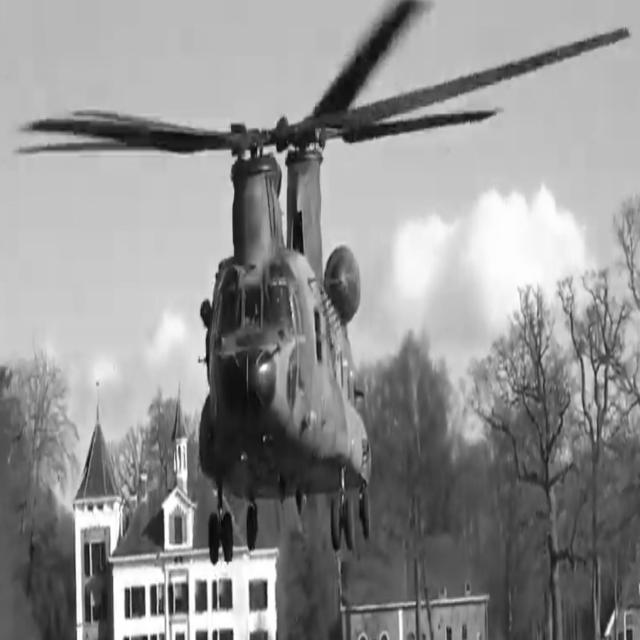Helicopter: (30, 0, 628, 563)
